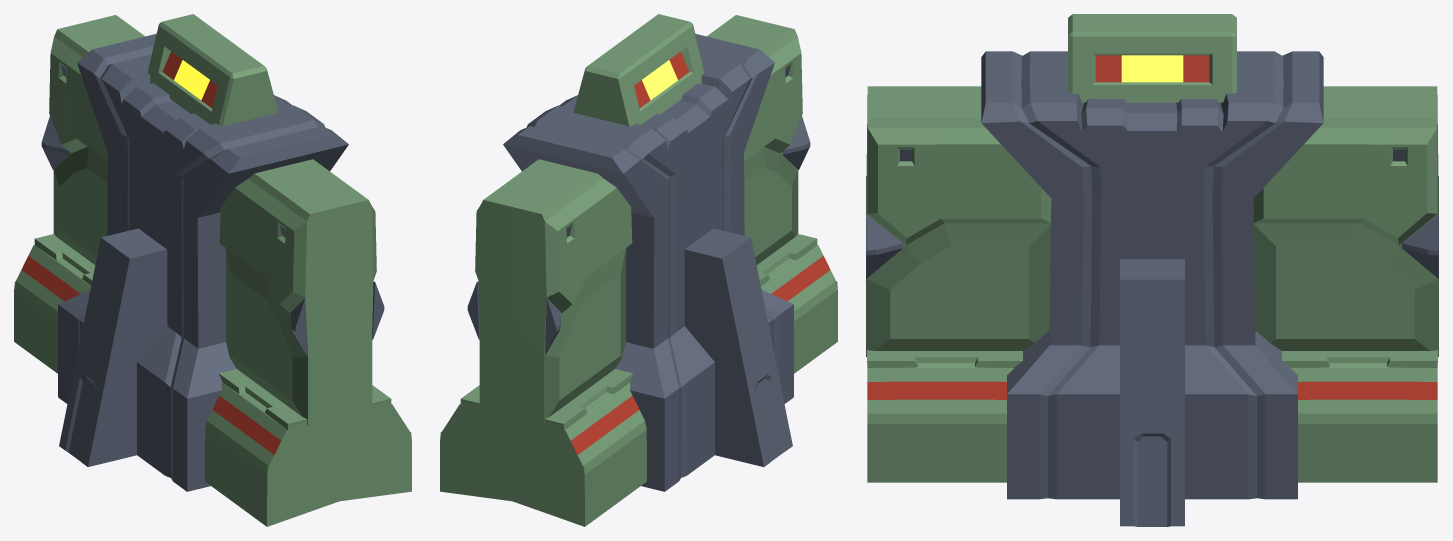
File: Wall.fbx
3 views of the same model, side by side, from view 1: azimuth 30°, elevation 25°; view 2: azimuth 150°, elevation 25°; view 3: azimuth 270°, elevation 25° (orthographic). The views are drawn at different scales.
Visible parts, largest first — view 1: Cube.054; view 2: Cube.054; view 3: Cube.054.
Boxes of the visible parts, bbox=[...] form: Cube.054: bbox=[14, 14, 411, 526]; Cube.054: bbox=[440, 14, 837, 526]; Cube.054: bbox=[866, 14, 1438, 526].
Size of the model in its own units: 139 by 181 by 220.
